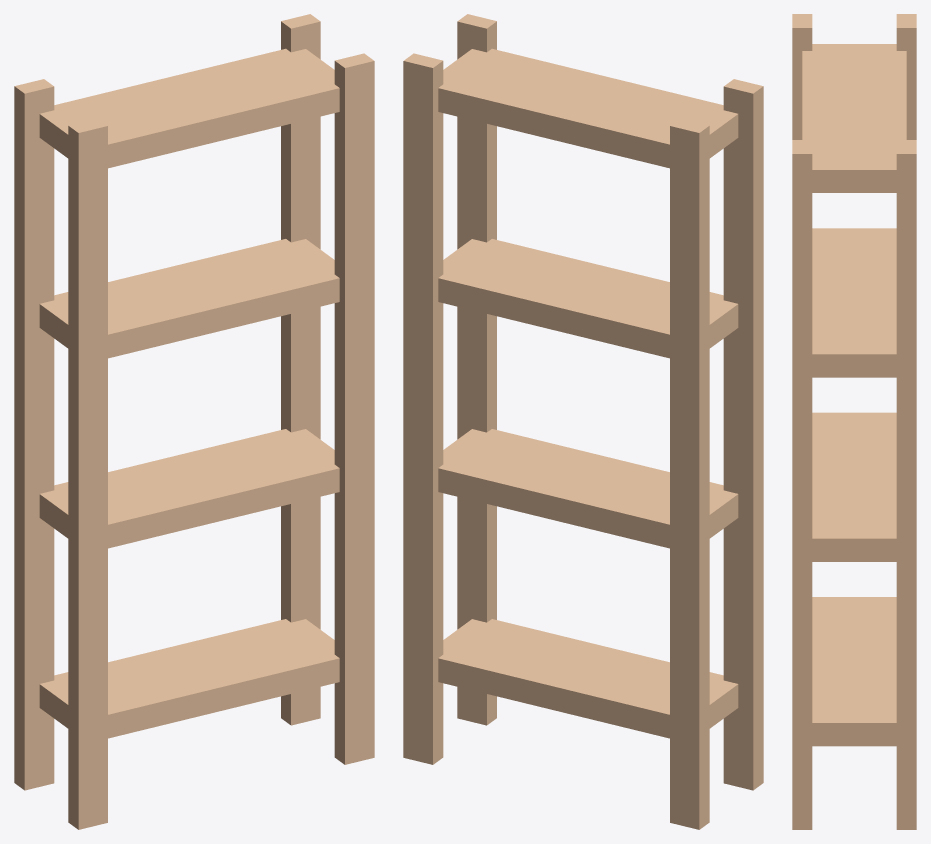
Rendered from kenney-bookcaseOpen.glb.
3 renders of one model, left to right at view 1: azimuth 30°, elevation 25°; view 2: azimuth 150°, elevation 25°; view 3: azimuth 270°, elevation 25°, orthographic. The views are drawn at different scales.
Visible parts, largest first — view 1: bookcaseOpen(Clone); view 2: bookcaseOpen(Clone); view 3: bookcaseOpen(Clone).
Boxes of the visible parts, x1,y1,x2,y2 form: bookcaseOpen(Clone): (14,14,374,829); bookcaseOpen(Clone): (403,14,763,829); bookcaseOpen(Clone): (792,14,916,829).
Bounding box in the file's own units: 0.7999 × 1.8 × 0.3.
